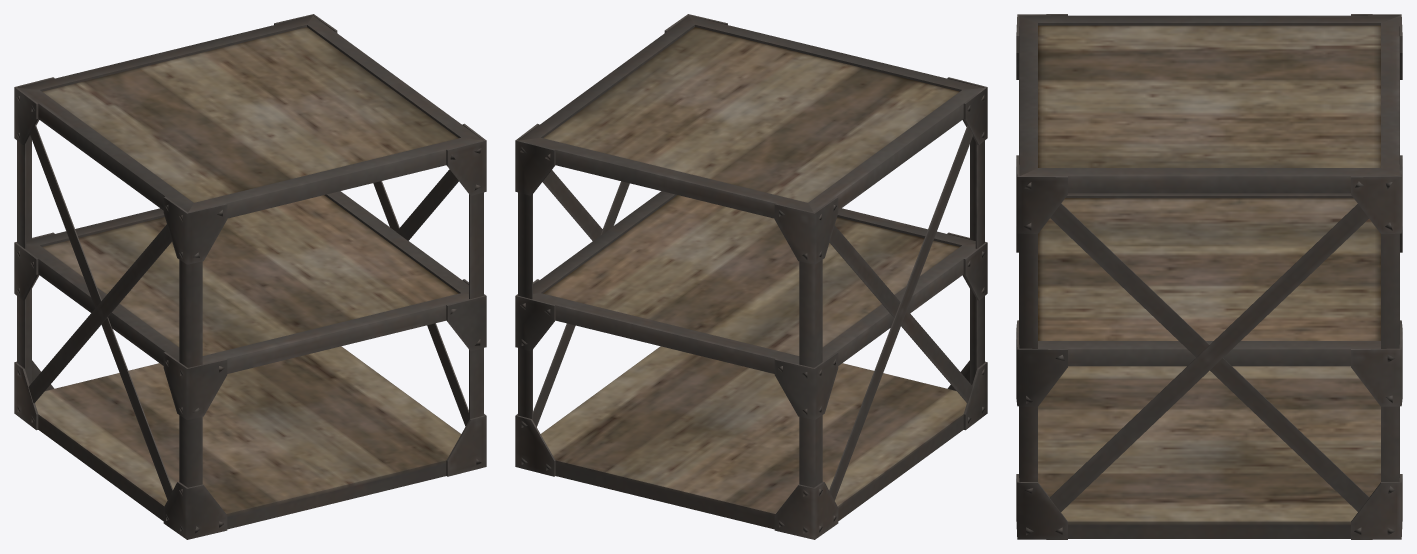
Rendered from industrial_table_low.glb.
The picture shows the model from 3 angles, left to right: view 1: azimuth 30°, elevation 25°; view 2: azimuth 150°, elevation 25°; view 3: azimuth 270°, elevation 25°; orthographic projection. The views are drawn at different scales.
Visible parts, largest first — view 1: Shelf_final; view 2: Shelf_final; view 3: Shelf_final.
Part boxes in pixels (x1,y1,x2,y2): Shelf_final: (14,14,486,539); Shelf_final: (515,14,987,539); Shelf_final: (1016,14,1402,539).
Bounding box in the file's own units: 0.8108 × 0.84 × 0.8108.
1 material, 1 textured.
